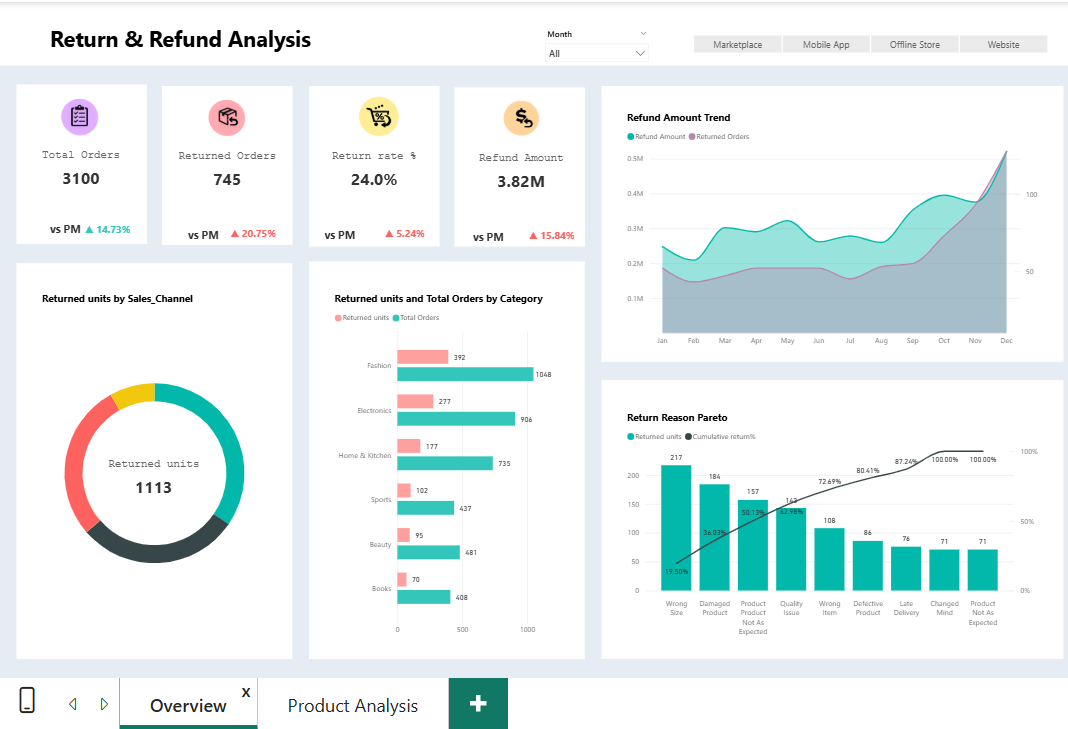

The page's visual inventory and layout, read from the dashboard file:
{"tool":"powerbi","page":{"name":"Overview","canvas":[1600,1000],"ordinal":0},"visuals":[{"type":"shape","box":[0,0,1599.9,83],"z":0},{"type":"shape","box":[0.1,10,1599.9,83],"z":1000},{"type":"shape","box":[28,122,193,236],"z":2000},{"type":"shape","box":[894.3,124.3,683.4,408.3],"z":3000},{"type":"shape","box":[677.7,126.5,193.1,235.2],"z":4000},{"type":"shape","box":[461.1,124.3,193.1,237.4],"z":5000},{"type":"shape","box":[244.5,124.3,193.1,235.2],"z":6000},{"type":"shape","box":[28.8,386.1,408.3,585.8],"z":7000},{"type":"shape","box":[461.5,383.9,408.3,588],"z":8000},{"type":"textbox","box":[73.2,26.6,483.7,330.6],"z":9000},{"type":"cardVisual","fields":{"Data":["1 Page Measures.Total Orders"]},"box":[46.6,199.7,155.3,84.3],"z":10000},{"type":"cardVisual","fields":{"Data":["1 Page Measures.Returned Orders"]},"box":[244.1,201.9,193.1,82.1],"z":11000},{"type":"cardVisual","fields":{"Data":["1 Page Measures.Return rate %"]},"box":[461.5,201.9,193.1,82.1],"z":12000},{"type":"cardVisual","fields":{"Data":["1 Page Measures.Refund Amount"]},"box":[679,204.1,193.1,82.1],"z":13000},{"type":"areaChart","title":"Refund Amount Trend","fields":{"Y":["1 Page Measures.Refund Amount"],"Category":["Dim_Date.Month Short"],"Y2":["1 Page Measures.Returned Orders"]},"box":[912,139.8,647.9,377.2],"z":14000},{"type":"shape","box":[894.3,559.2,683.4,412.7],"z":15000},{"type":"slicer","fields":{"Values":["Dim_Channel.Sales_Channel"]},"box":[1005.2,42.2,572.5,39.9],"z":16000},{"type":"lineClusteredColumnComboChart","title":"Return Reason Pareto","fields":{"Y":["1 Page Measures.Returned units"],"Y2":["1 Page Measures.Cumulative return%"],"Category":["Dim_ReturnReasons.Return_Reason"]},"box":[912,583.6,647.9,361.7],"z":17000},{"type":"clusteredBarChart","fields":{"Category":["Dim_Products.Category"],"Y":["1 Page Measures.Returned units","1 Page Measures.Total Orders"]},"box":[479.3,408.3,372.8,537],"z":18000},{"type":"donutChart","fields":{"Category":["Dim_Channel.Sales_Channel"],"Y":["1 Page Measures.Returned units"]},"box":[46.6,408.3,372.8,537],"z":19000},{"type":"cardVisual","fields":{"Data":["1 Page Measures.Returned units"]},"box":[135.4,656.8,193.1,82.1],"z":20000},{"type":"image","box":[42.2,99.9,159.8,146.5],"z":21000},{"type":"image","box":[259.6,102.1,159.8,144.2],"z":22000},{"type":"image","box":[699,102.1,153.1,144.2],"z":23000},{"type":"image","box":[479.3,99.9,170.9,144.2],"z":24000},{"type":"cardVisual","fields":{"Data":["1 Page Measures.Total orders mom var"]},"box":[113.9,298.7,119,65.8],"z":25000},{"type":"slicer","fields":{"Values":["Dim_Date.Month Short"]},"box":[801.1,33.3,173.1,55.5],"z":26000},{"type":"textbox","box":[73.4,319,83.5,38],"z":27000},{"type":"cardVisual","fields":{"Data":["1 Page Measures.Returned Orders mom var"]},"box":[328.4,304,119.8,66.6],"z":28000},{"type":"cardVisual","fields":{"Data":["1 Page Measures.Return rate  mom var"]},"box":[557,306.2,119.8,64.4],"z":29000},{"type":"cardVisual","fields":{"Data":["1 Page Measures.Refund Amount  mom var"]},"box":[770,308.4,117.6,64.4],"z":30000},{"type":"textbox","box":[277.4,328.4,110.9,37.7],"z":31000},{"type":"textbox","box":[479.3,328.4,84.3,42.2],"z":32000},{"type":"textbox","box":[699,330.6,102.1,31.1],"z":33000}]}

Visuals, with their boxes on the page's 1600x1000 design canvas (x1, y1, x2, y2). These are canvas units, not pixel positions in the 1068x729 screenshot, which may show the page scaled, cropped or inside an application window:
shape: {"x1": 0, "y1": 0, "x2": 1600, "y2": 83}
shape: {"x1": 0, "y1": 10, "x2": 1600, "y2": 93}
shape: {"x1": 28, "y1": 122, "x2": 221, "y2": 358}
shape: {"x1": 894, "y1": 124, "x2": 1578, "y2": 533}
shape: {"x1": 678, "y1": 126, "x2": 871, "y2": 362}
shape: {"x1": 461, "y1": 124, "x2": 654, "y2": 362}
shape: {"x1": 244, "y1": 124, "x2": 438, "y2": 360}
shape: {"x1": 29, "y1": 386, "x2": 437, "y2": 972}
shape: {"x1": 462, "y1": 384, "x2": 870, "y2": 972}
textbox: {"x1": 73, "y1": 27, "x2": 557, "y2": 357}
cardVisual - 1 Page Measures.Total Orders: {"x1": 47, "y1": 200, "x2": 202, "y2": 284}
cardVisual - 1 Page Measures.Returned Orders: {"x1": 244, "y1": 202, "x2": 437, "y2": 284}
cardVisual - 1 Page Measures.Return rate %: {"x1": 462, "y1": 202, "x2": 655, "y2": 284}
cardVisual - 1 Page Measures.Refund Amount: {"x1": 679, "y1": 204, "x2": 872, "y2": 286}
"Refund Amount Trend" areaChart: {"x1": 912, "y1": 140, "x2": 1560, "y2": 517}
shape: {"x1": 894, "y1": 559, "x2": 1578, "y2": 972}
slicer - Dim_Channel.Sales_Channel: {"x1": 1005, "y1": 42, "x2": 1578, "y2": 82}
"Return Reason Pareto" lineClusteredColumnComboChart: {"x1": 912, "y1": 584, "x2": 1560, "y2": 945}
clusteredBarChart - Dim_Products.Category x 1 Page Measures.Returned units: {"x1": 479, "y1": 408, "x2": 852, "y2": 945}
donutChart - Dim_Channel.Sales_Channel x 1 Page Measures.Returned units: {"x1": 47, "y1": 408, "x2": 419, "y2": 945}
cardVisual - 1 Page Measures.Returned units: {"x1": 135, "y1": 657, "x2": 328, "y2": 739}
image: {"x1": 42, "y1": 100, "x2": 202, "y2": 246}
image: {"x1": 260, "y1": 102, "x2": 419, "y2": 246}
image: {"x1": 699, "y1": 102, "x2": 852, "y2": 246}
image: {"x1": 479, "y1": 100, "x2": 650, "y2": 244}
cardVisual - 1 Page Measures.Total orders mom var: {"x1": 114, "y1": 299, "x2": 233, "y2": 364}
slicer - Dim_Date.Month Short: {"x1": 801, "y1": 33, "x2": 974, "y2": 89}
textbox: {"x1": 73, "y1": 319, "x2": 157, "y2": 357}
cardVisual - 1 Page Measures.Returned Orders mom var: {"x1": 328, "y1": 304, "x2": 448, "y2": 371}
cardVisual - 1 Page Measures.Return rate  mom var: {"x1": 557, "y1": 306, "x2": 677, "y2": 371}
cardVisual - 1 Page Measures.Refund Amount  mom var: {"x1": 770, "y1": 308, "x2": 888, "y2": 373}
textbox: {"x1": 277, "y1": 328, "x2": 388, "y2": 366}
textbox: {"x1": 479, "y1": 328, "x2": 564, "y2": 371}
textbox: {"x1": 699, "y1": 331, "x2": 801, "y2": 362}
